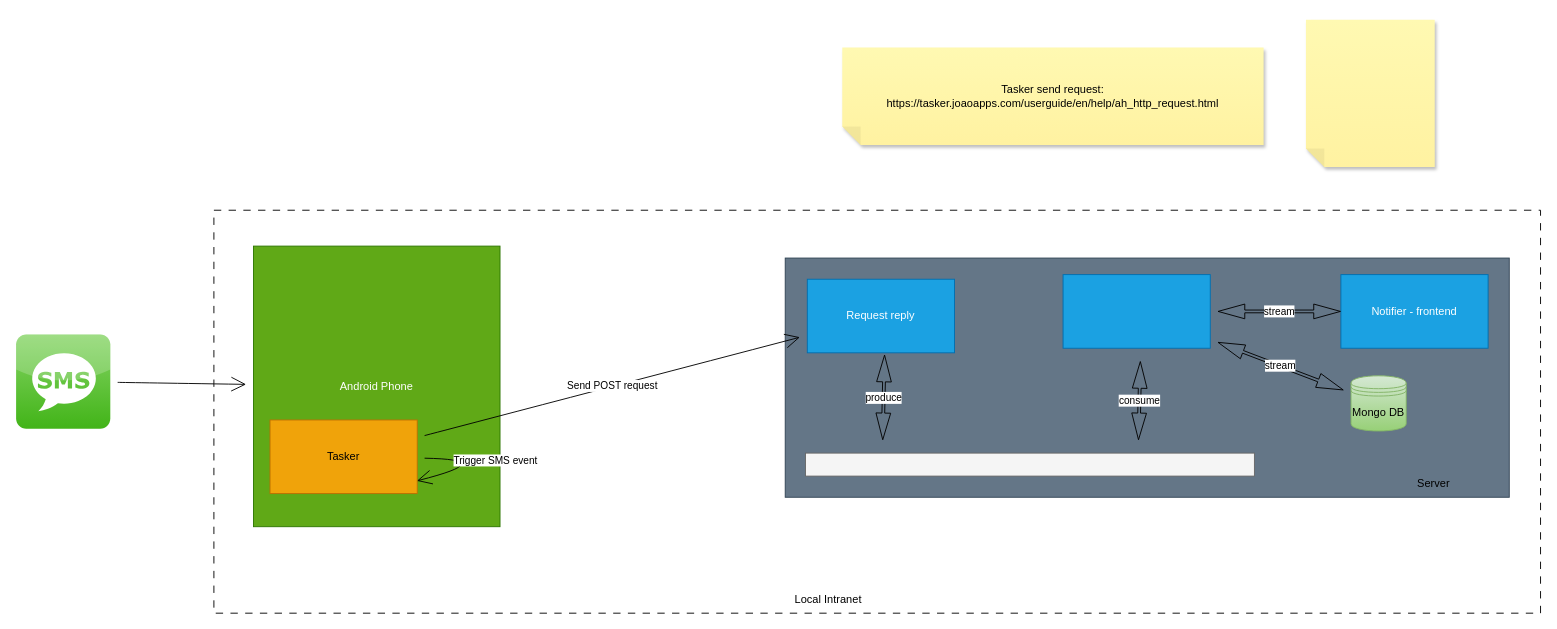
The diagram is 1557 pixels wide and 629 high, and some of its shapes have lost their labels. The centre of each missing label's shape, as x and y in pixels:
"Message Broker - JetStream" belongs at (x=1029, y=464).
"Notifier - backend" belongs at (x=1136, y=311).
"Notify: keep playing sound" belongs at (x=1371, y=94).
